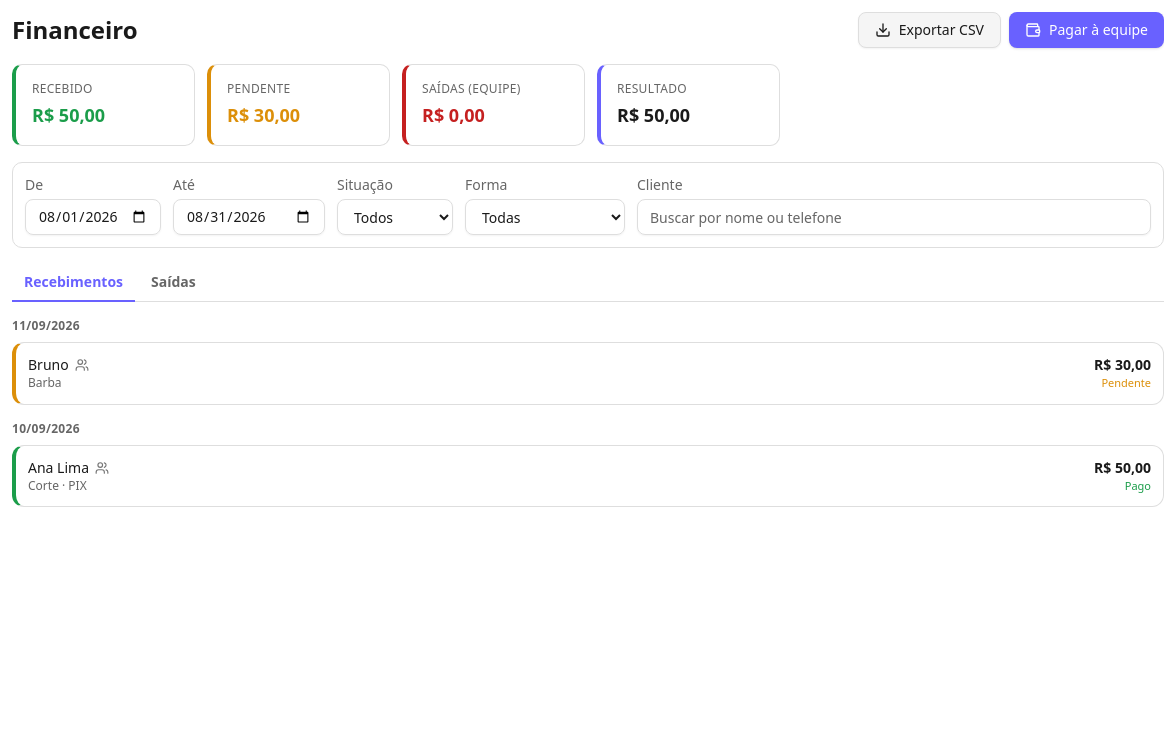
Scenario: Financeiro — recebimentos (Stories 5.2/5.3) › desktop: filtro por SITUAÇÃO (pagos) esconde os pendentes na lista
Expected: the text "Corte · PIX" is shown, [28,477,87,494]
# filtra por Pagos → some o pendente (Barba/Bruno), fica o pago (Corte/Ana).
Select "Pagos" in the dropdown labelled "Situação": (395, 217) [337,199,453,235]
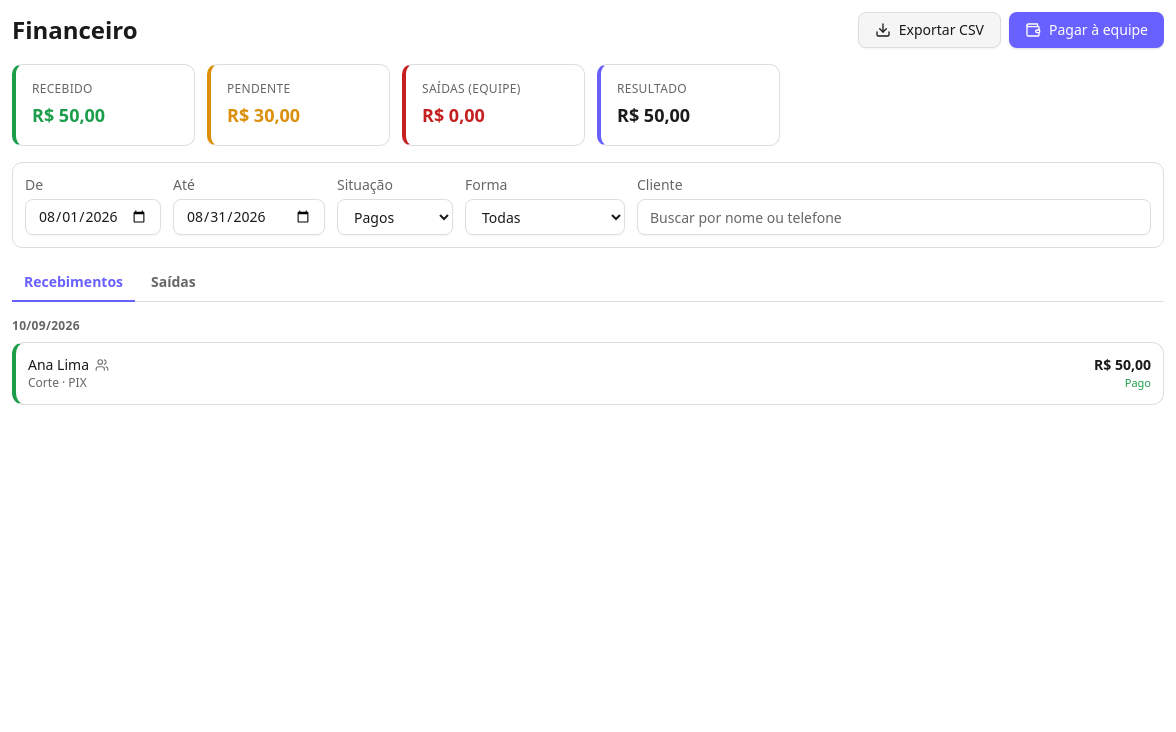
Expected: the text "Corte · PIX" is shown, [28,374,87,391]
Now the button "Barba" is gone
